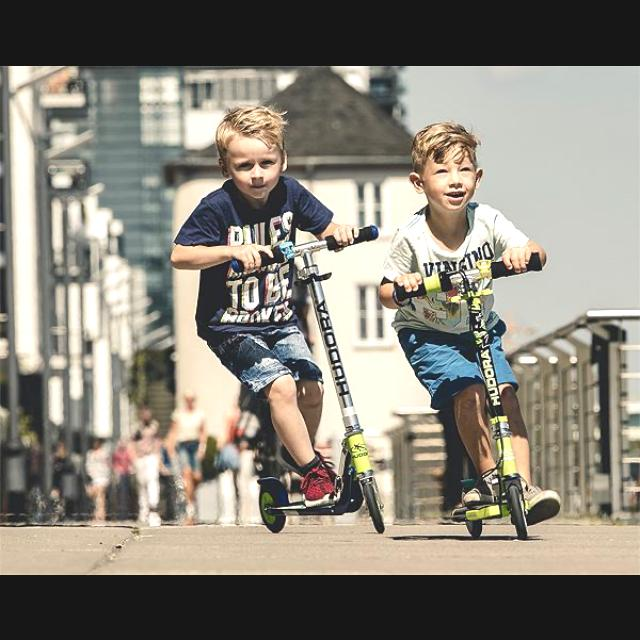Without Helmet: (212, 105, 288, 199), (410, 122, 480, 212)
